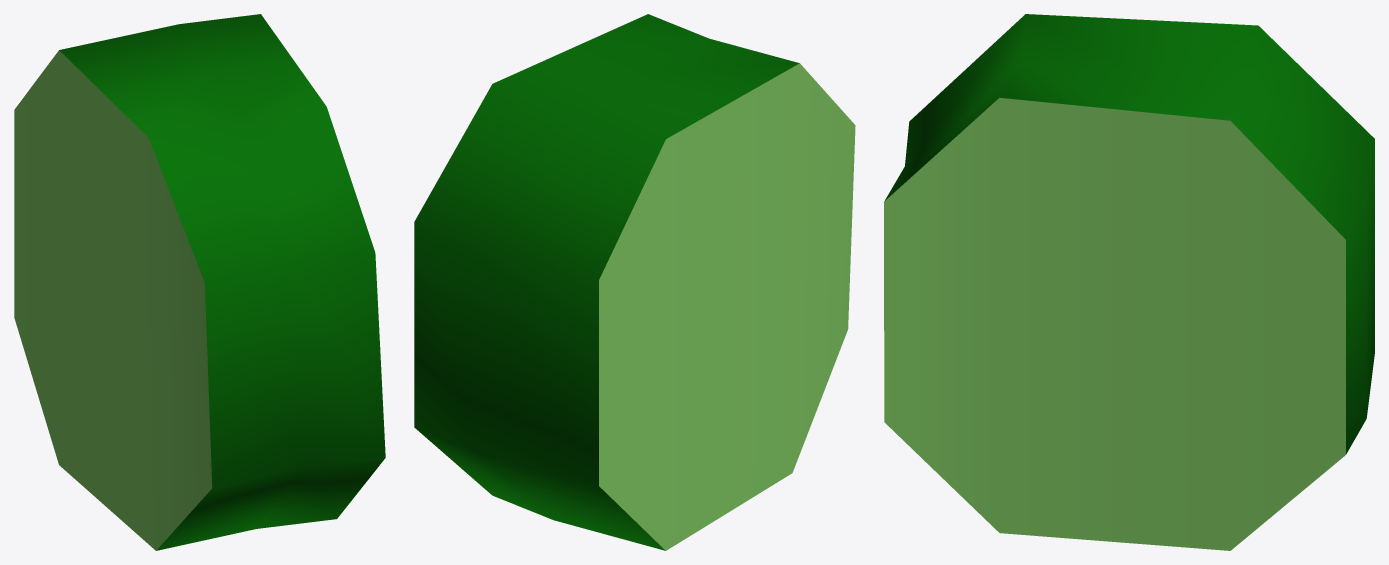
File: mesh_CucumberSlice_Stage09.fbx
3 renders of one model, left to right at view 1: azimuth 30°, elevation 25°; view 2: azimuth 150°, elevation 25°; view 3: azimuth 270°, elevation 25°, orthographic. The views are drawn at different scales.
Parts seen in each view (by area): view 1: mesh_CucumberSlice_Stage09; view 2: mesh_CucumberSlice_Stage09; view 3: mesh_CucumberSlice_Stage09.
Part boxes in pixels (x1=…): mesh_CucumberSlice_Stage09: x1=14, y1=14, x2=385, y2=550; mesh_CucumberSlice_Stage09: x1=414, y1=14, x2=855, y2=550; mesh_CucumberSlice_Stage09: x1=884, y1=14, x2=1374, y2=550.
Bounding box in the file's own units: 0.0216 × 0.0367 × 0.0379.
